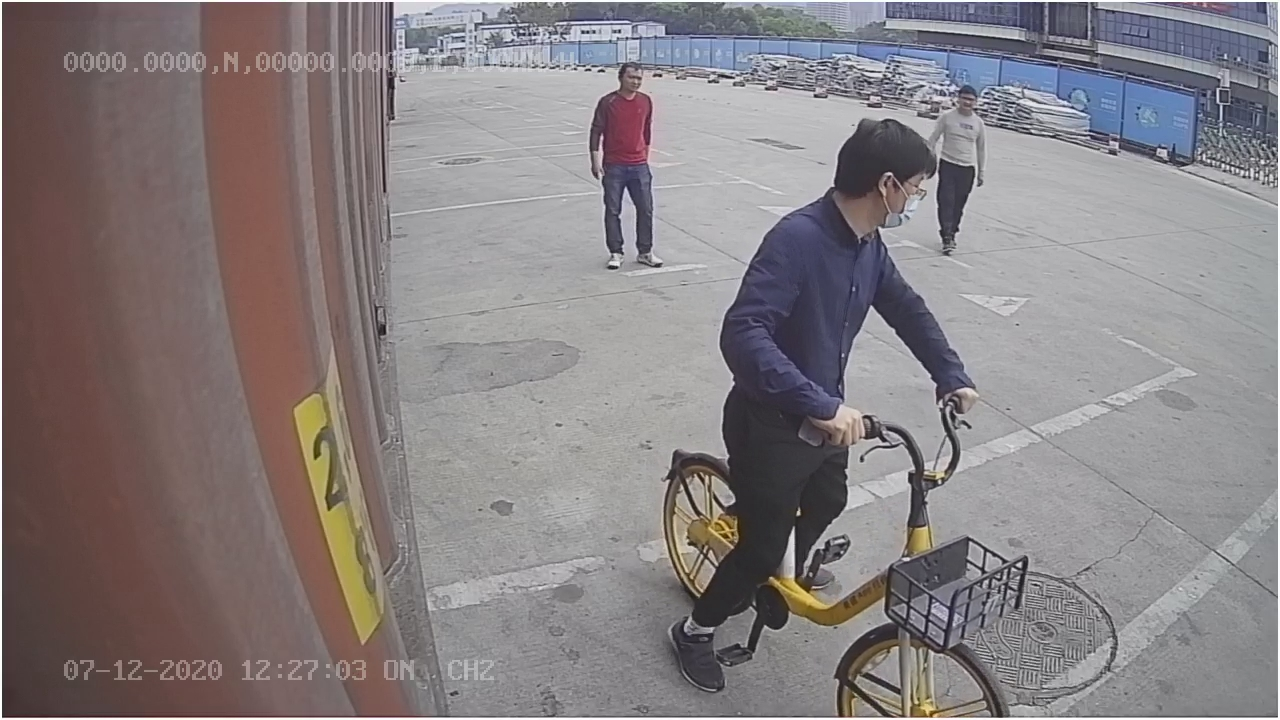person: (581, 56, 666, 275)
